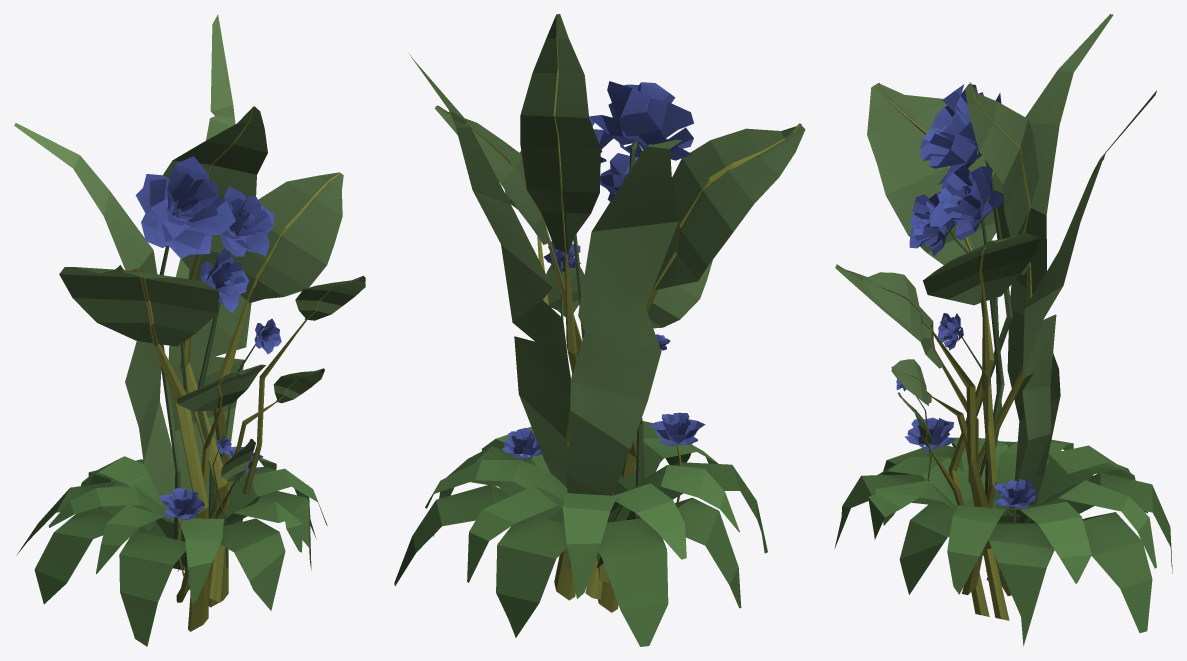
The model's file is flower01.glb.
The picture shows the model from 3 angles, left to right: view 1: azimuth 30°, elevation 25°; view 2: azimuth 150°, elevation 25°; view 3: azimuth 270°, elevation 25°; orthographic projection. The views are drawn at different scales.
Visible parts, largest first — view 1: Flower01Plant; view 2: Flower01Plant; view 3: Flower01Plant.
Boxes of the visible parts, x1,y1,x2,y2 form: Flower01Plant: (14,14,365,646); Flower01Plant: (394,14,805,646); Flower01Plant: (834,14,1172,646).
Bounding box in the file's own units: 0.8487 × 1.5 × 0.7884.
1 material, 1 textured.
